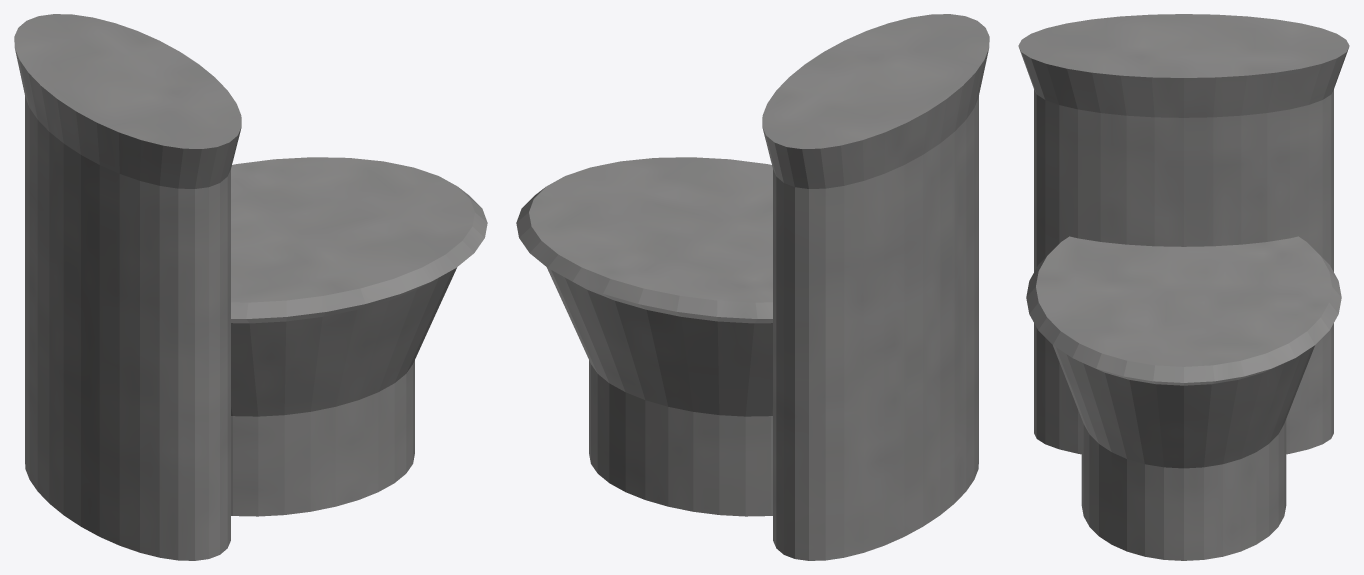
The model's file is Toilet.glb.
The picture shows the model from 3 angles, left to right: view 1: azimuth 30°, elevation 25°; view 2: azimuth 150°, elevation 25°; view 3: azimuth 270°, elevation 25°; orthographic projection. The views are drawn at different scales.
Parts seen in each view (by area): view 1: Toilet_Baked; view 2: Toilet_Baked; view 3: Toilet_Baked.
Part boxes in pixels (x1=…): Toilet_Baked: x1=14, y1=14, x2=487, y2=560; Toilet_Baked: x1=516, y1=14, x2=989, y2=560; Toilet_Baked: x1=1018, y1=14, x2=1349, y2=560.
Bounding box in the file's own units: 3.69 × 3.61 × 2.77.
Materials: 1 (1 with a texture image).
